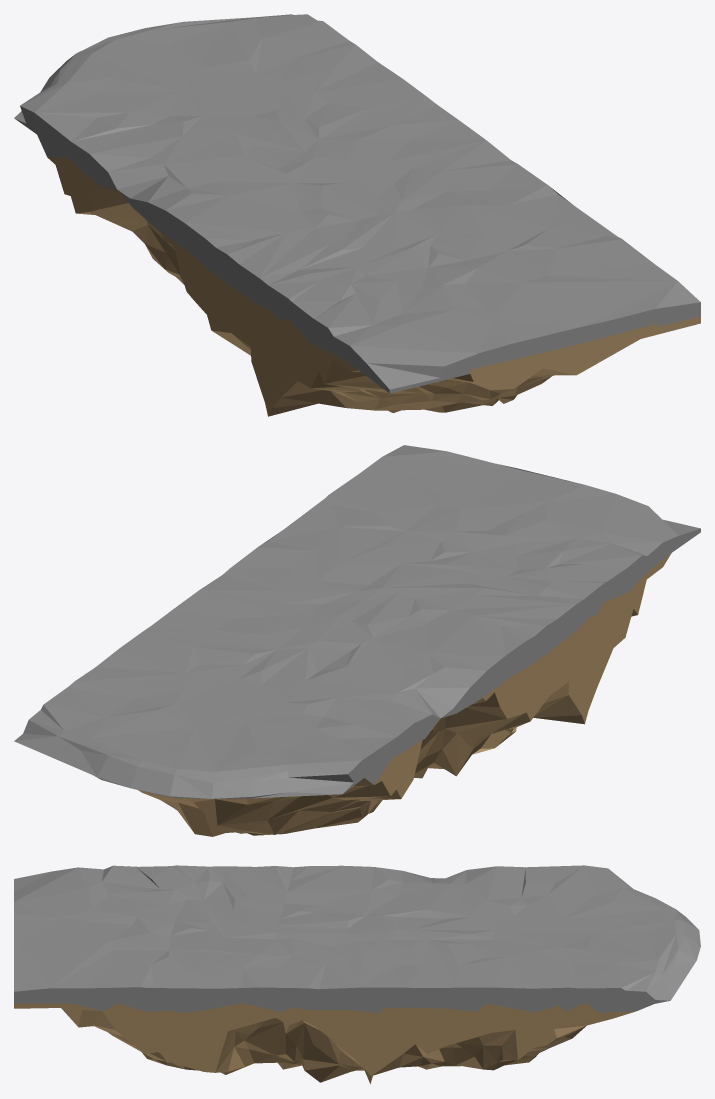
Rendered from street.fbx.
3 renders of one model, top to bottom at view 1: azimuth 30°, elevation 25°; view 2: azimuth 150°, elevation 25°; view 3: azimuth 270°, elevation 25°, orthographic. The views are drawn at different scales.
Parts seen in each view (by area): view 1: polySurface8; view 2: polySurface8; view 3: polySurface8.
Part boxes in pixels (<box>): polySurface8: <box>14,14,700,416</box>; polySurface8: <box>14,445,700,836</box>; polySurface8: <box>14,865,700,1084</box>.
Size of the model in its own units: 1765 by 881 by 4201.
